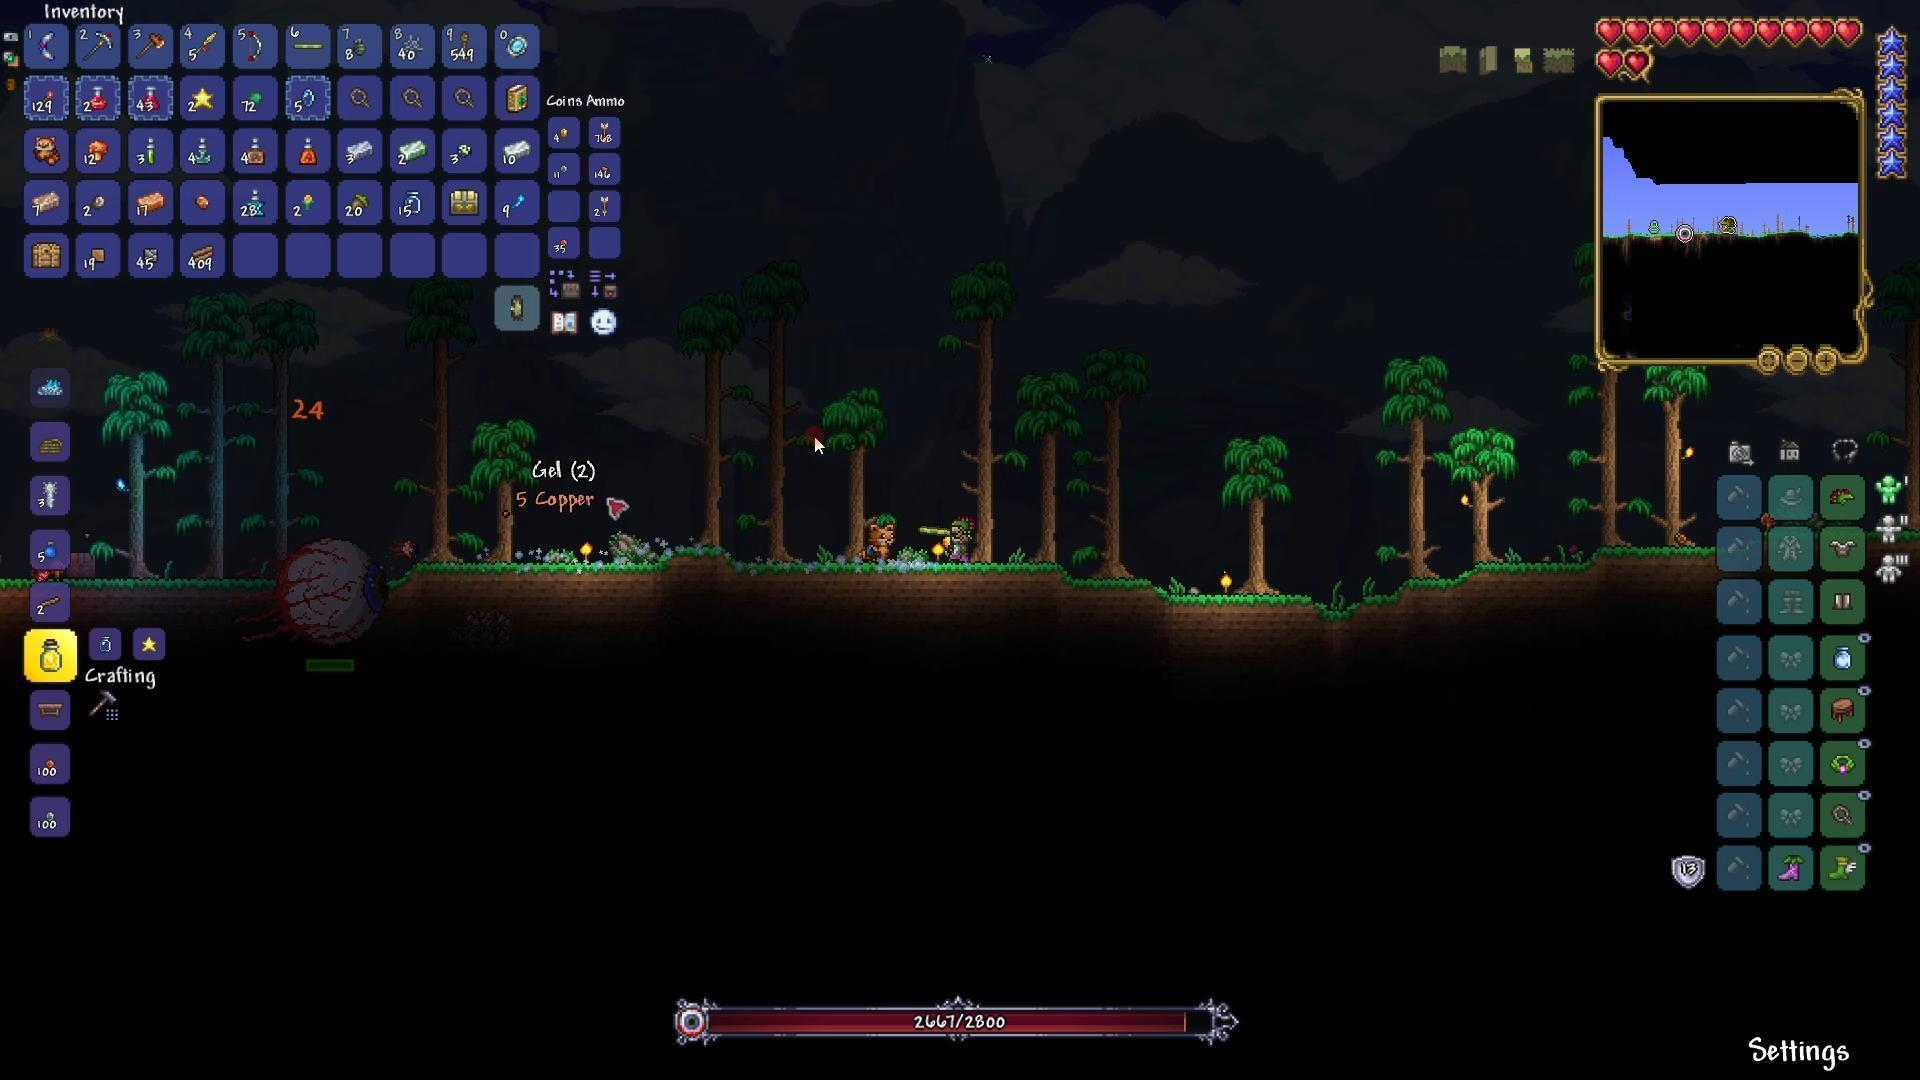axe: (132, 25, 171, 62)
bar: (128, 183, 171, 220), (336, 133, 377, 165), (500, 133, 533, 171), (396, 133, 429, 166), (26, 189, 61, 220)
bow: (237, 25, 266, 66)
breastplate: (1828, 538, 1858, 560)
chest: (25, 233, 73, 270), (444, 183, 485, 222)
cobwebI: (397, 30, 427, 61)
eyeC: (228, 521, 410, 676)
lens: (295, 82, 322, 116)
mirror: (501, 32, 531, 63)
ore: (82, 183, 120, 222), (447, 135, 480, 170), (189, 186, 219, 222)
pickaxe: (82, 26, 121, 67)
potion: (79, 76, 112, 119), (132, 82, 165, 116)
recallP: (233, 183, 269, 219)
rope: (447, 30, 480, 65)
wood: (191, 244, 215, 265)
workbench: (37, 696, 65, 721)
